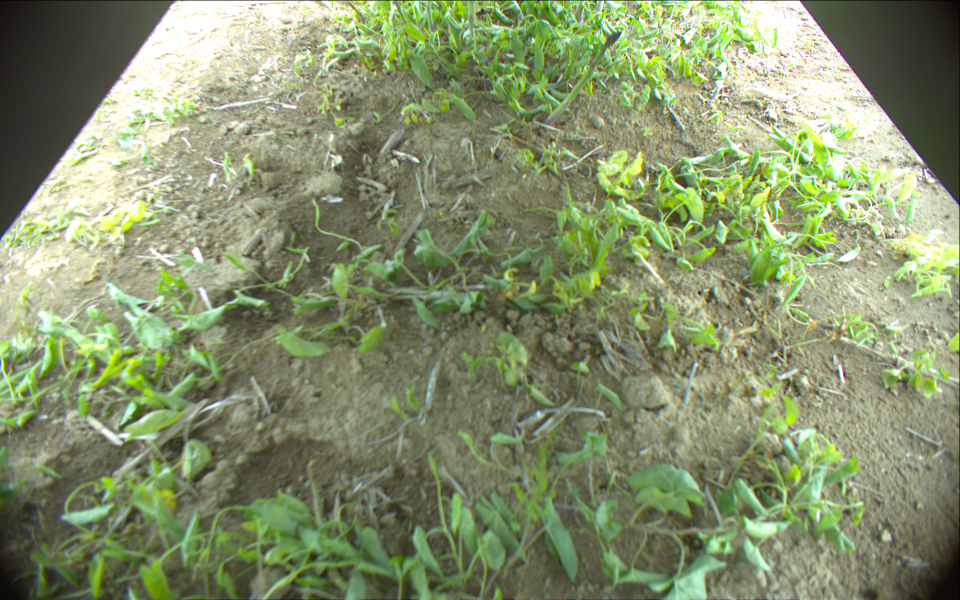aspa: (543, 29, 623, 128), (344, 1, 368, 21), (395, 1, 406, 24), (428, 1, 435, 34)
